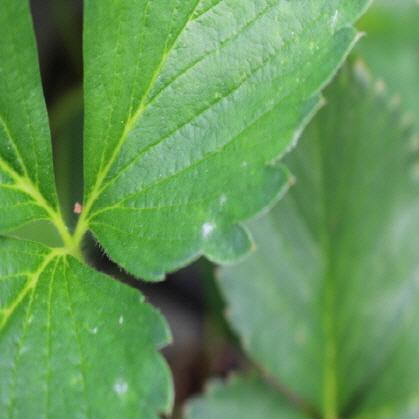Powdery Mildew Leaf: (81, 0, 376, 281), (0, 233, 173, 418)
